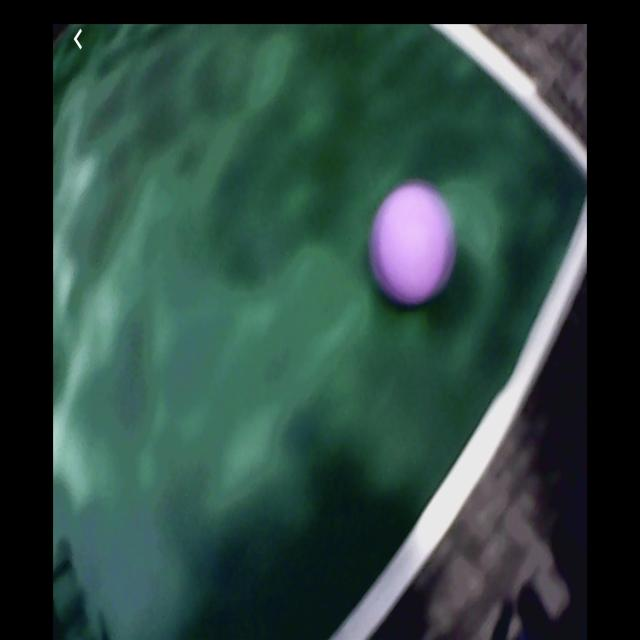ball: (372, 181, 457, 306)
